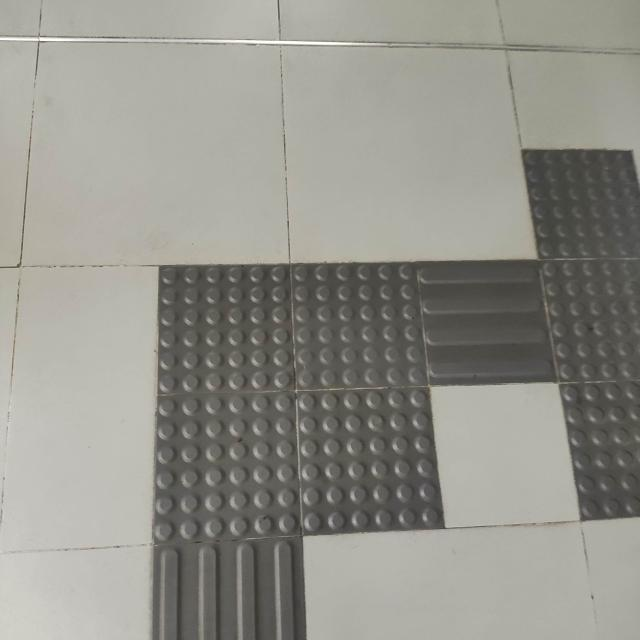kanan: (118, 212, 570, 597)
